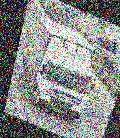truck: (8, 8, 114, 130)
